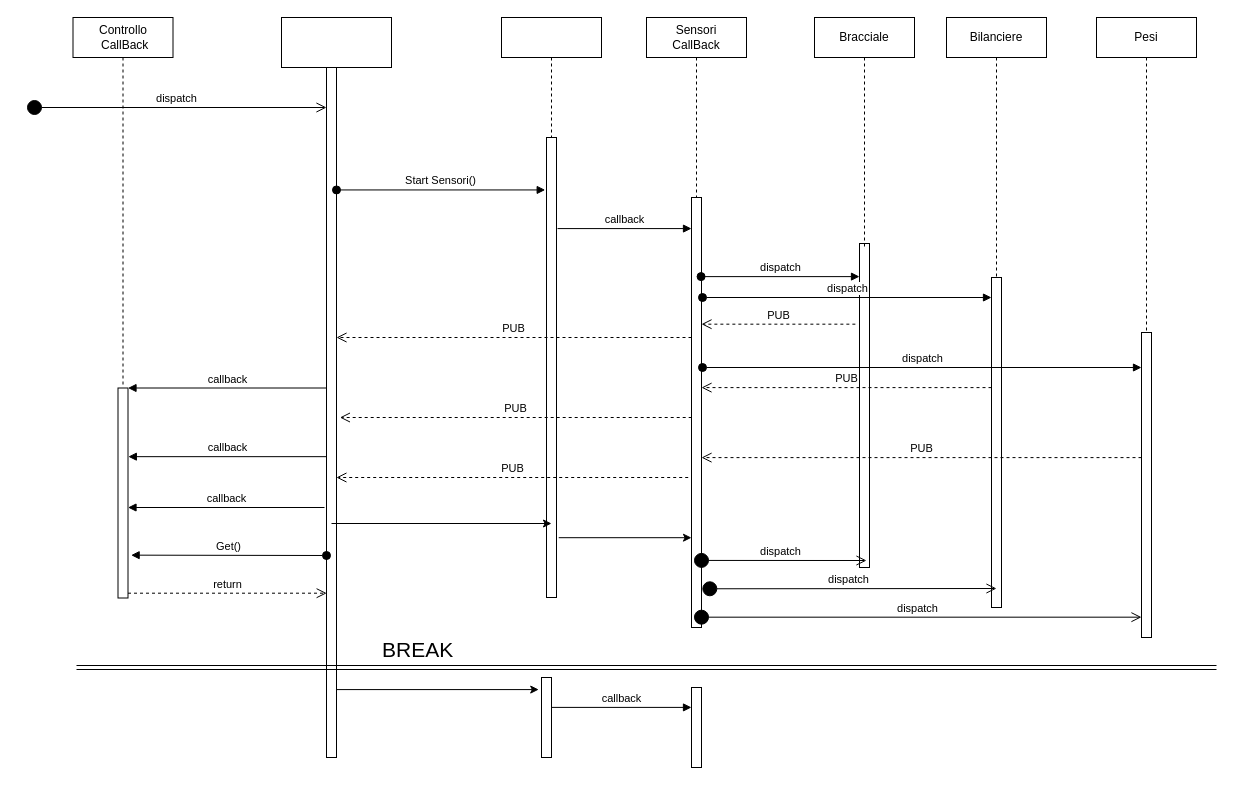
This 1234x785 diagram has some shape labels left out. The shapes that lost their labels are listed below. From the top down, each one's box as (x1, y1, x2, y2) in pixels, then its label:
(280, 16, 392, 68): Controllo
(500, 16, 602, 138): Sensori
